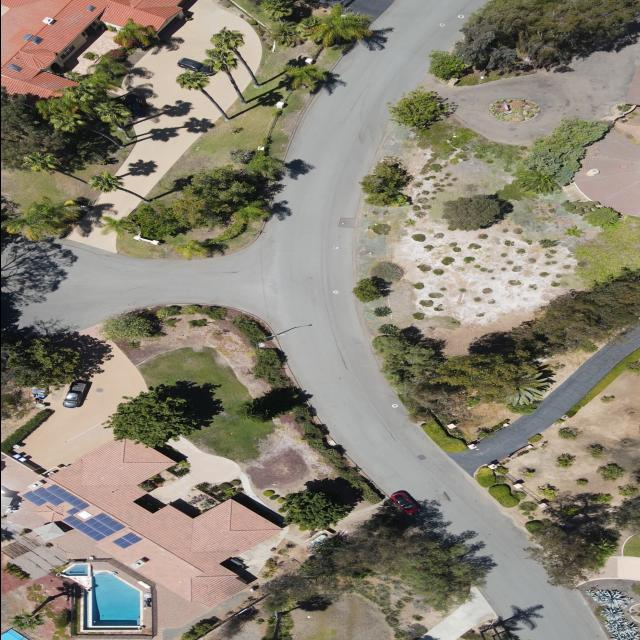solar-panels: (21, 472, 90, 529), (61, 497, 125, 551), (111, 529, 142, 552)
